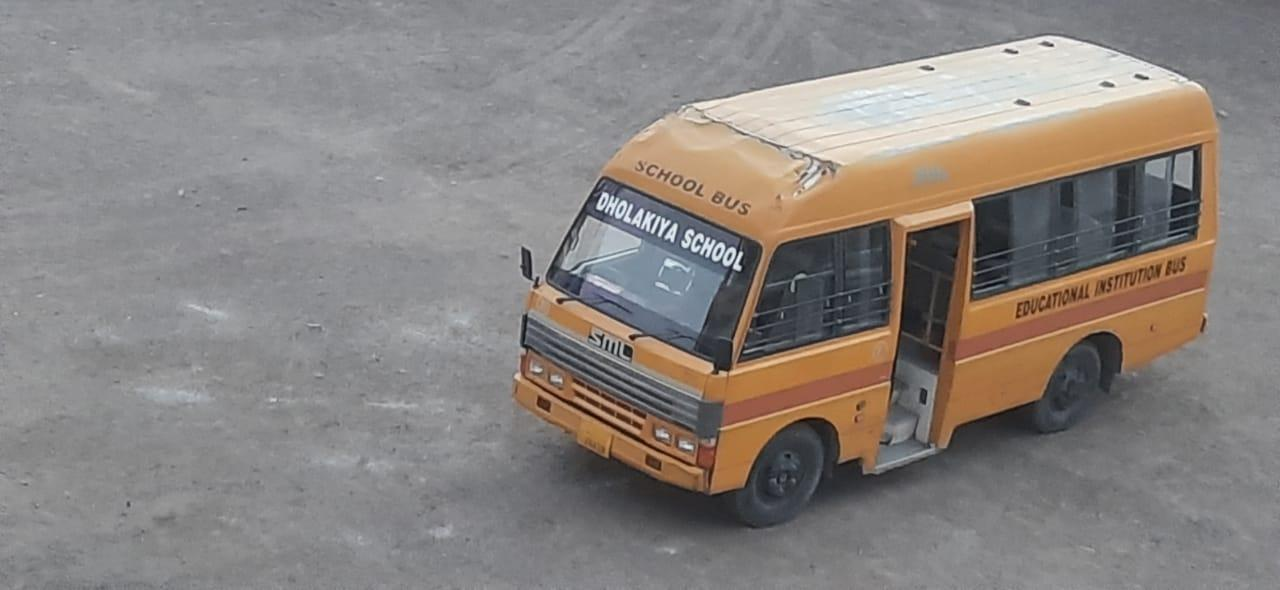Bus: (505, 29, 1233, 537)
